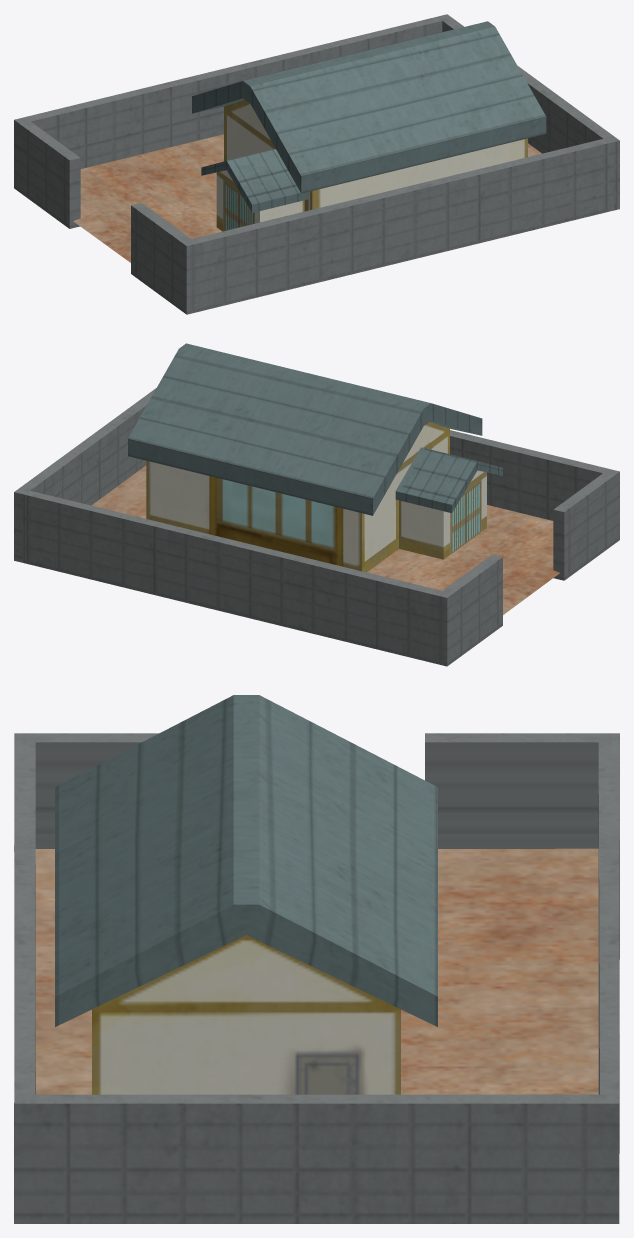
File: isono.fbx
3 views of the same model, one above another, from view 1: azimuth 30°, elevation 25°; view 2: azimuth 150°, elevation 25°; view 3: azimuth 270°, elevation 25° (orthographic). The views are drawn at different scales.
Visible parts, largest first — view 1: polySurface14, pCube50, polySurface10; view 2: pCube50, polySurface14, polySurface10; view 3: pCube50, polySurface14, polySurface10.
Part boxes in pixels (x1=…): polySurface14: x1=14, y1=14, x2=619, y2=314; pCube50: x1=192, y1=21, x2=546, y2=231; polySurface10: x1=73, y1=134, x2=541, y2=262; pCube50: x1=128, y1=343, x2=502, y2=572; polySurface14: x1=14, y1=388, x2=619, y2=666; polySurface10: x1=91, y1=465, x2=559, y2=614; pCube50: x1=55, y1=695, x2=437, y2=1094; polySurface14: x1=14, y1=733, x2=619, y2=1223; polySurface10: x1=14, y1=845, x2=598, y2=1094.
Bounding box in the file's own units: 19.06 × 6.39 × 13.17.
1 material, 1 textured.
